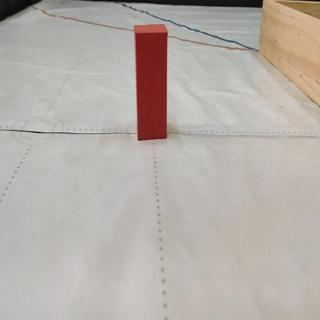redbox: (133, 23, 168, 141)
